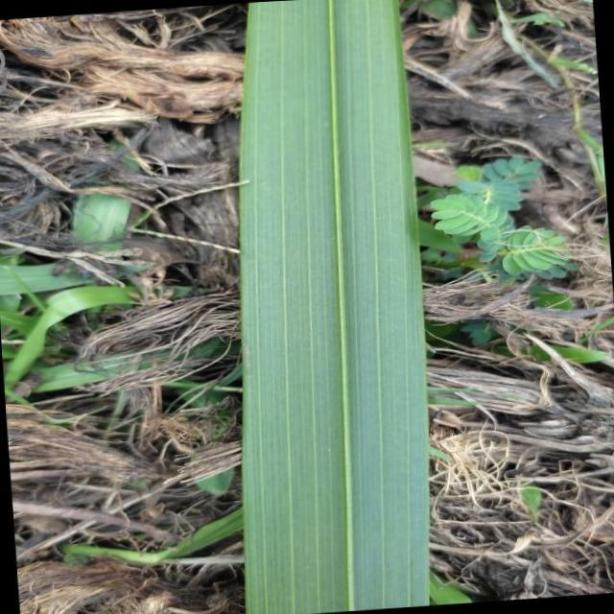Healthy: (238, 0, 429, 614)
